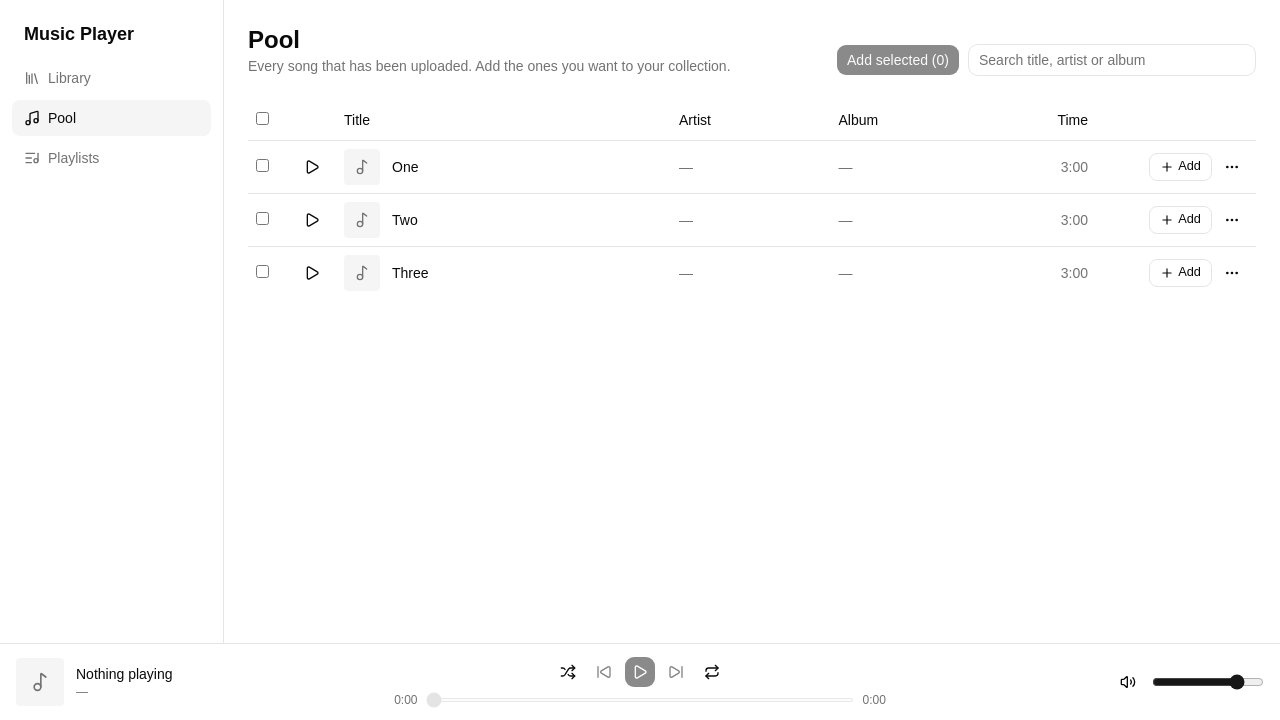
Test: Pool › adds several selected songs at once
Expected: the text "One" is shown, [392, 156, 418, 176]
Click the checkbox named "Select One" at (262, 165), box [256, 158, 269, 172]
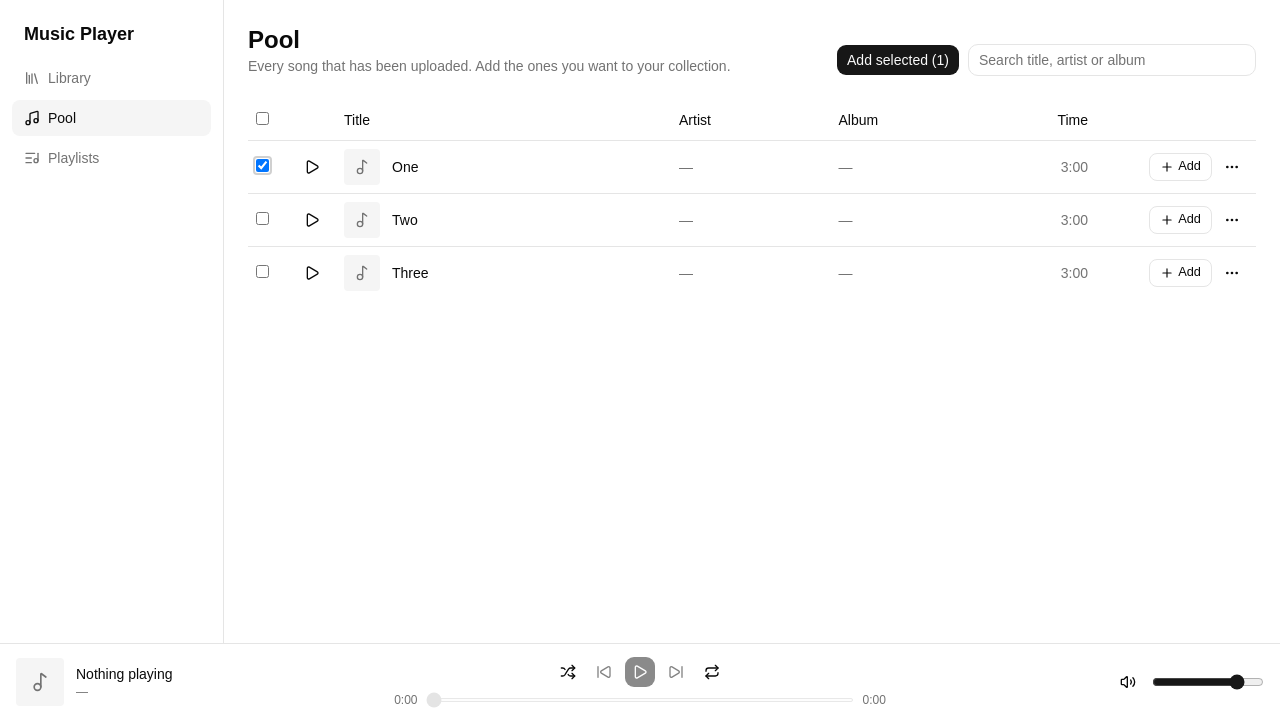
Click the checkbox named "Select Three" at (262, 271), box [256, 264, 269, 278]
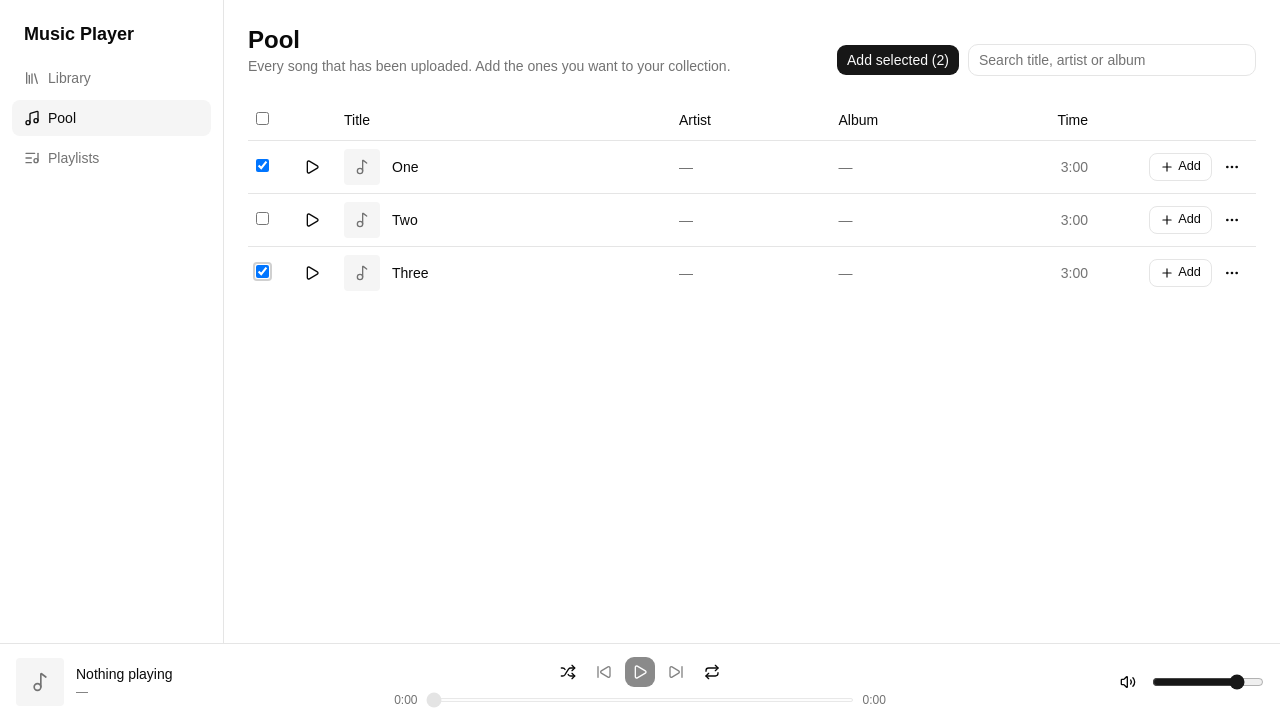
Click the button "Add selected (2)" at (898, 60), box [836, 44, 960, 76]
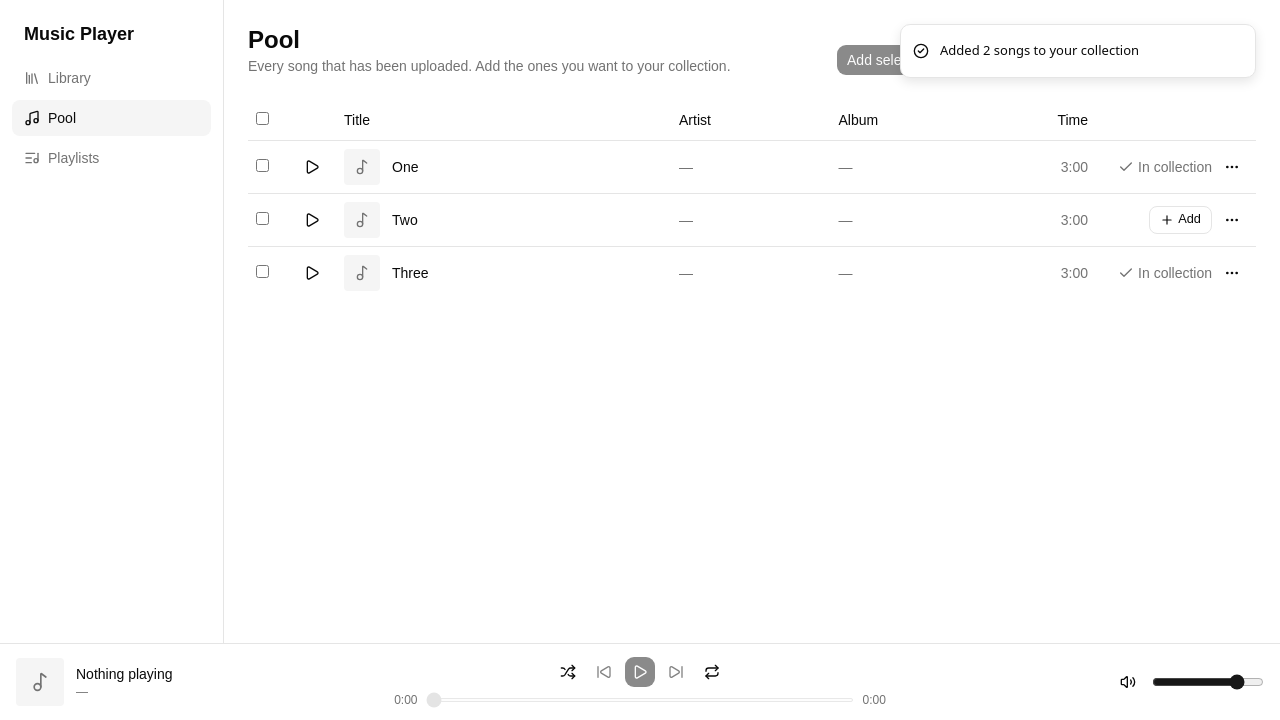
Result: the text "Added 2 songs to your collection" is shown at [940, 41, 1139, 60]
